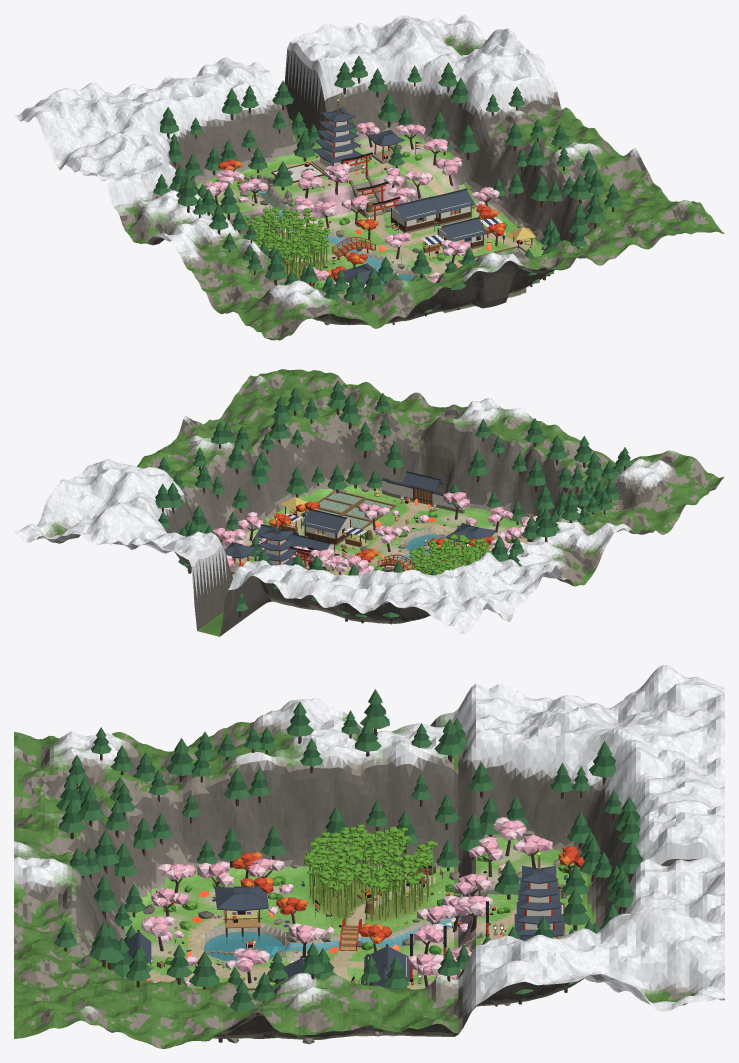
File: blossom_valley.glb
The picture shows the model from 3 angles, top to bottom: view 1: azimuth 30°, elevation 25°; view 2: azimuth 150°, elevation 25°; view 3: azimuth 270°, elevation 25°; orthographic projection. The views are drawn at different scales.
Parts seen in each view (by area): view 1: Terrain, Pines, Sakura_Trees, Bamboo, Pagoda, Maple_Trees, Village_House_1, Village_House_2, Torii_Stairs, Village_House_3, Water, Bell_Tower (+1 smaller); view 2: Terrain, Pines, Sakura_Trees, Bamboo, Water, South_Gate, Village_House_3, Pagoda, Maple_Trees, Tea_House, Bell_Tower, Village_House_1 (+1 smaller); view 3: Terrain, Pines, Sakura_Trees, Bamboo, Pagoda, Water, Maple_Trees, Bushes, Tea_House, Rocks, Village_House_1.
Part boxes in pixels (bbox=[...]): Terrain: bbox=[14, 14, 724, 340]; Pines: bbox=[153, 55, 621, 324]; Sakura_Trees: bbox=[204, 122, 499, 285]; Bamboo: bbox=[240, 206, 330, 279]; Pagoda: bbox=[311, 99, 365, 173]; Maple_Trees: bbox=[218, 160, 505, 285]; Village_House_1: bbox=[391, 196, 438, 232]; Village_House_2: bbox=[429, 188, 475, 225]; Torii_Stairs: bbox=[341, 152, 400, 220]; Village_House_3: bbox=[437, 217, 487, 253]; Water: bbox=[256, 189, 553, 284]; Bell_Tower: bbox=[366, 130, 404, 212]; Terrain: bbox=[14, 369, 724, 636]; Pines: bbox=[155, 380, 632, 623]; Sakura_Trees: bbox=[213, 492, 537, 574]; Bamboo: bbox=[409, 533, 492, 574]; Water: bbox=[300, 491, 455, 571]; South_Gate: bbox=[381, 471, 464, 513]; Village_House_3: bbox=[301, 508, 350, 545]; Pagoda: bbox=[256, 518, 297, 565]; Maple_Trees: bbox=[268, 501, 494, 562]; Tea_House: bbox=[445, 523, 496, 553]; Bell_Tower: bbox=[224, 530, 372, 574]; Village_House_1: bbox=[290, 534, 334, 568]; Terrain: bbox=[14, 665, 724, 1048]; Pines: bbox=[54, 689, 643, 1042]; Sakura_Trees: bbox=[141, 817, 571, 987]; Bamboo: bbox=[303, 824, 437, 920]; Pagoda: bbox=[499, 852, 565, 938]; Water: bbox=[195, 894, 469, 993]; Maple_Trees: bbox=[232, 846, 584, 951]; Bushes: bbox=[156, 846, 573, 1036]; Tea_House: bbox=[211, 886, 268, 942]; Rocks: bbox=[143, 830, 560, 1044]; Village_House_1: bbox=[364, 944, 410, 981].
Size of the model in its own units: 88 by 22.75 by 88.
